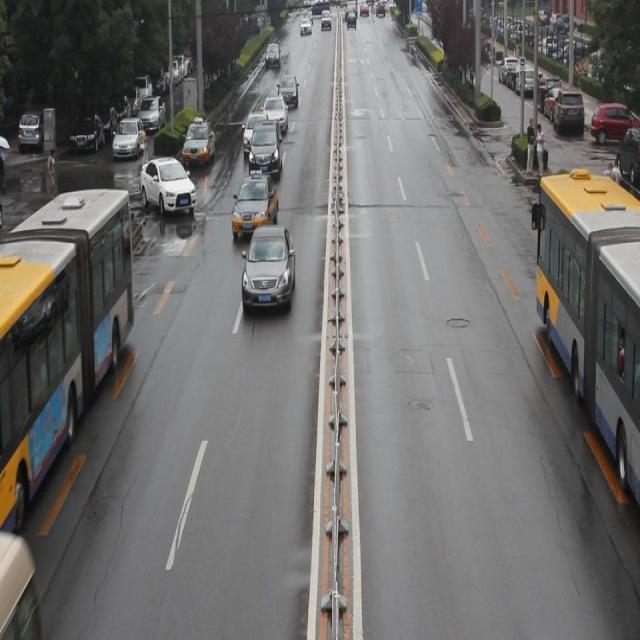car: (242, 224, 293, 314), (229, 170, 278, 242), (140, 156, 195, 219), (249, 120, 280, 180), (182, 117, 215, 171), (242, 109, 270, 156), (262, 96, 287, 134)
van: (0, 188, 134, 548), (531, 183, 640, 519)
